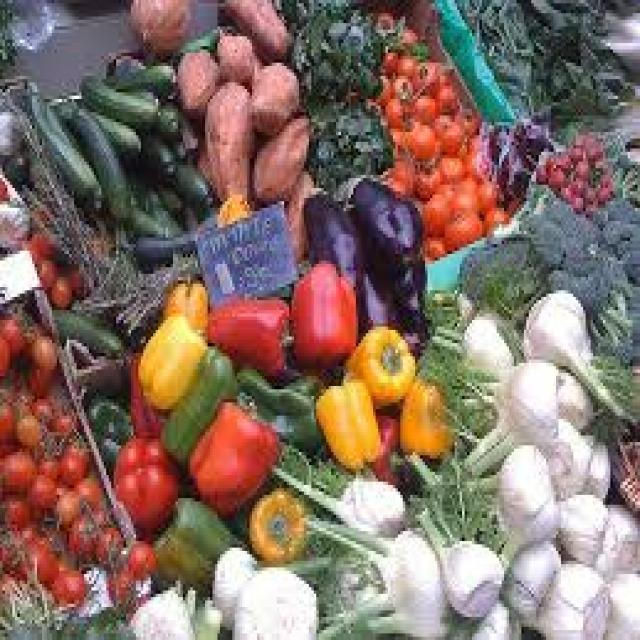organic waste: (452, 0, 637, 135), (522, 188, 638, 363), (306, 508, 450, 637), (20, 116, 94, 280), (460, 353, 556, 465), (186, 392, 274, 514), (454, 228, 554, 330), (420, 284, 487, 436), (25, 76, 101, 208), (415, 505, 502, 617), (148, 491, 240, 594), (276, 0, 378, 92), (408, 442, 499, 544), (54, 99, 128, 221), (341, 168, 423, 277), (158, 343, 232, 459), (304, 92, 390, 188), (106, 244, 203, 327), (234, 359, 324, 448), (286, 258, 356, 370), (492, 439, 556, 551), (205, 290, 289, 373), (311, 369, 378, 472), (136, 307, 203, 406), (479, 106, 551, 198), (338, 320, 412, 406), (539, 126, 610, 214), (230, 561, 311, 637), (116, 429, 178, 524), (532, 558, 606, 636), (126, 574, 217, 637), (202, 79, 250, 198), (74, 231, 146, 307), (269, 439, 346, 508), (302, 188, 358, 280), (499, 541, 559, 624), (250, 109, 304, 201), (247, 478, 307, 558), (336, 465, 403, 535), (395, 373, 450, 452), (598, 3, 638, 109), (457, 307, 517, 376), (79, 76, 156, 129), (210, 541, 255, 630), (50, 300, 121, 356), (82, 389, 128, 475), (553, 491, 608, 561), (412, 287, 454, 376), (593, 498, 638, 581), (218, 0, 284, 56), (590, 353, 638, 426), (598, 416, 638, 502), (546, 412, 588, 492), (128, 221, 212, 261), (247, 59, 294, 129), (126, 0, 188, 53), (593, 125, 638, 195), (161, 270, 210, 330), (354, 248, 391, 326), (175, 46, 218, 112), (99, 59, 175, 96), (136, 172, 180, 234), (600, 567, 638, 637), (128, 350, 160, 429), (457, 597, 519, 637), (366, 406, 398, 478), (67, 508, 111, 558), (213, 23, 252, 79), (171, 152, 210, 208), (556, 363, 591, 425), (89, 106, 136, 152), (282, 165, 306, 254), (388, 248, 425, 304), (0, 439, 35, 488), (136, 132, 173, 178), (17, 538, 57, 580), (583, 432, 608, 498), (124, 201, 163, 241), (420, 192, 452, 238), (25, 465, 59, 508), (101, 564, 136, 604), (442, 208, 484, 241), (188, 119, 212, 175), (119, 538, 153, 577), (59, 429, 86, 478), (0, 488, 40, 521), (49, 564, 84, 601), (0, 313, 32, 353), (74, 472, 106, 511), (393, 287, 422, 330), (52, 485, 79, 528), (153, 95, 178, 138), (403, 119, 430, 158), (15, 406, 42, 445), (94, 524, 121, 561), (408, 89, 437, 122), (457, 102, 482, 139), (49, 402, 76, 436), (34, 446, 62, 478), (450, 178, 479, 208), (0, 148, 25, 182), (0, 395, 17, 445), (64, 264, 92, 294), (0, 521, 17, 570), (27, 333, 54, 363), (22, 228, 52, 254), (410, 165, 435, 195), (32, 254, 57, 284), (457, 138, 477, 175), (435, 112, 457, 145), (435, 148, 460, 175), (479, 201, 504, 228), (413, 59, 435, 89), (438, 76, 458, 109), (390, 158, 412, 188), (474, 178, 496, 208), (383, 96, 405, 125), (47, 271, 69, 300), (28, 393, 50, 422), (28, 363, 50, 392), (398, 327, 422, 353), (18, 521, 50, 538), (390, 16, 412, 40), (390, 70, 410, 92), (380, 46, 396, 73), (0, 326, 10, 369), (373, 10, 393, 30), (425, 234, 445, 254), (393, 49, 410, 72), (435, 56, 452, 79), (390, 125, 406, 148), (378, 72, 393, 96), (27, 317, 47, 333), (52, 548, 69, 560)
